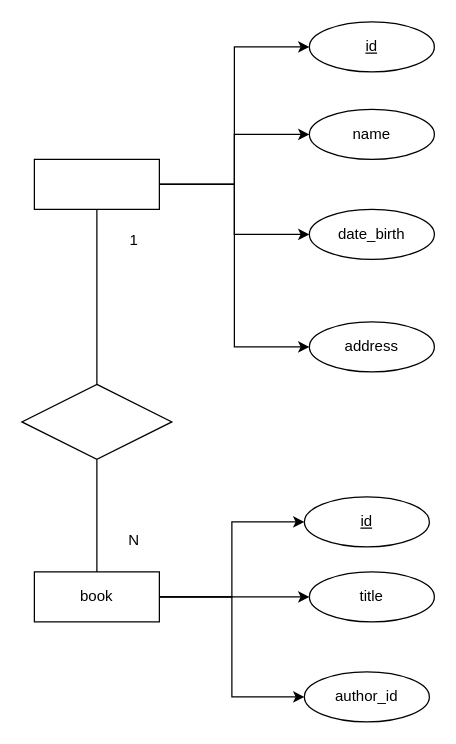
Some shapes in this 456 by 744 pixel diagram are drawn without their labels. The centre of each missing label's shape, as x and y in pixels:
author: the point at 96,183
Thuộc: the point at 96,421
